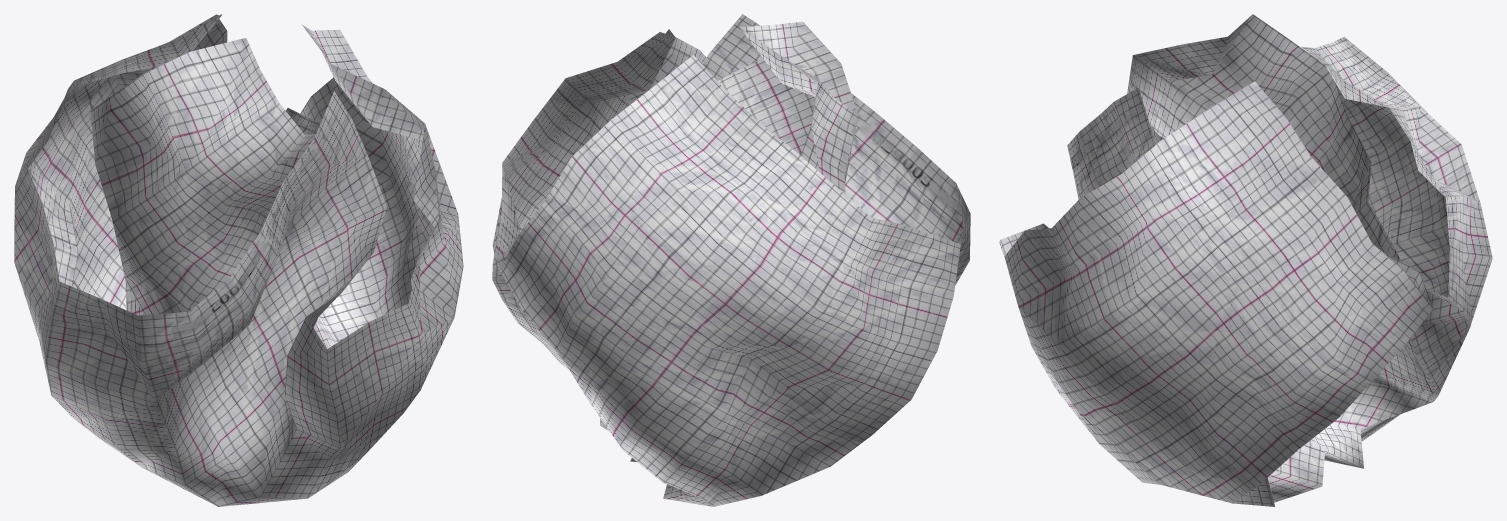
Rendered from Throwable Paper.fbx.
3 renders of one model, left to right at view 1: azimuth 30°, elevation 25°; view 2: azimuth 150°, elevation 25°; view 3: azimuth 270°, elevation 25°, orthographic.
Visible parts, largest first — view 1: Plane; view 2: Plane; view 3: Plane.
Boxes of the visible parts, box(x1,y1,x2,y2) form: Plane: box(14, 14, 463, 506); Plane: box(492, 14, 970, 506); Plane: box(999, 14, 1492, 506).
Bounding box in the file's own units: 317 × 343 × 336.
